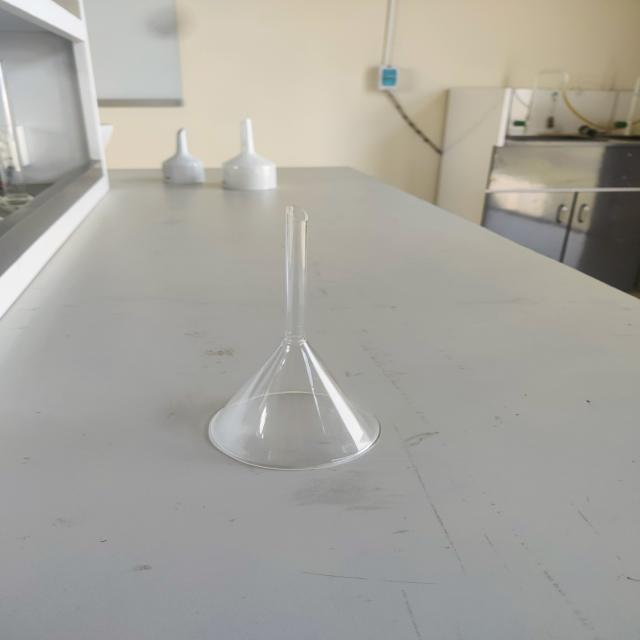Funnel: (180, 184, 415, 499)
